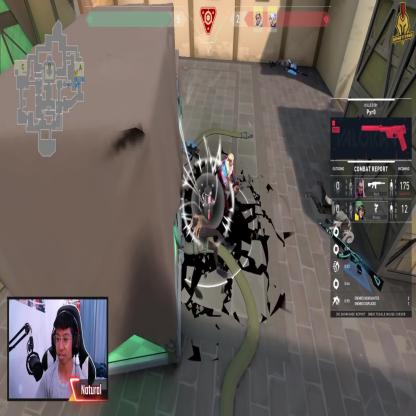enemy: (218, 153, 239, 211)
enemy_head: (227, 153, 234, 167)
